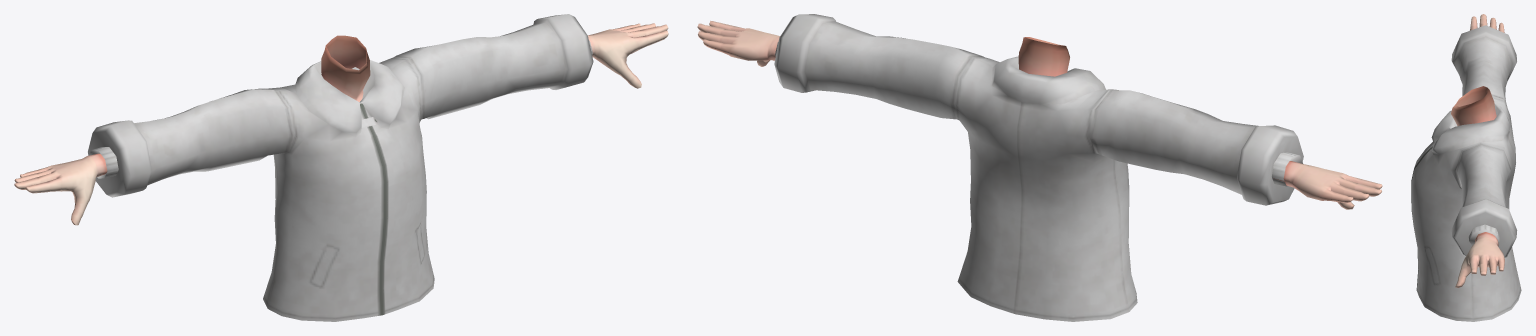
File: tr0770_00_upb03.gltf
3 views of the same model, side by side, from view 1: azimuth 30°, elevation 25°; view 2: azimuth 150°, elevation 25°; view 3: azimuth 270°, elevation 25° (orthographic). The views are drawn at different scales.
Visible parts, largest first — view 1: upb03_upperbody_mesh_shape:upperbody03, upb03_upperskin_mesh_shape:upperbody03_skin; view 2: upb03_upperbody_mesh_shape:upperbody03, upb03_upperskin_mesh_shape:upperbody03_skin; view 3: upb03_upperbody_mesh_shape:upperbody03, upb03_upperskin_mesh_shape:upperbody03_skin.
Boxes of the visible parts, bbox=[...] form: upb03_upperbody_mesh_shape:upperbody03: bbox=[88, 14, 593, 321]; upb03_upperskin_mesh_shape:upperbody03_skin: bbox=[14, 23, 668, 225]; upb03_upperbody_mesh_shape:upperbody03: bbox=[774, 14, 1303, 321]; upb03_upperskin_mesh_shape:upperbody03_skin: bbox=[697, 20, 1382, 209]; upb03_upperbody_mesh_shape:upperbody03: bbox=[1411, 25, 1521, 321]; upb03_upperskin_mesh_shape:upperbody03_skin: bbox=[1451, 14, 1504, 287].
Size of what is drawn, in the model's own units: 1.63 by 0.5878 by 0.2923.
2 materials, 2 textured.
